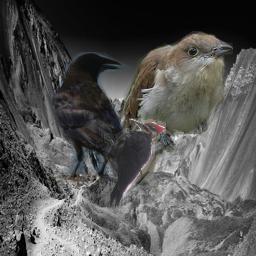Crow: (51, 52, 148, 189)
Cuckoo: (120, 31, 233, 193)
Woodpecker: (104, 118, 166, 206)
